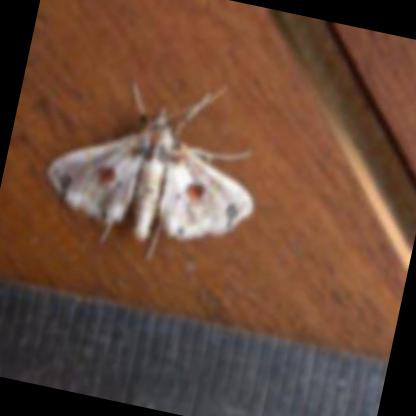leucinodes: (45, 107, 254, 243)
